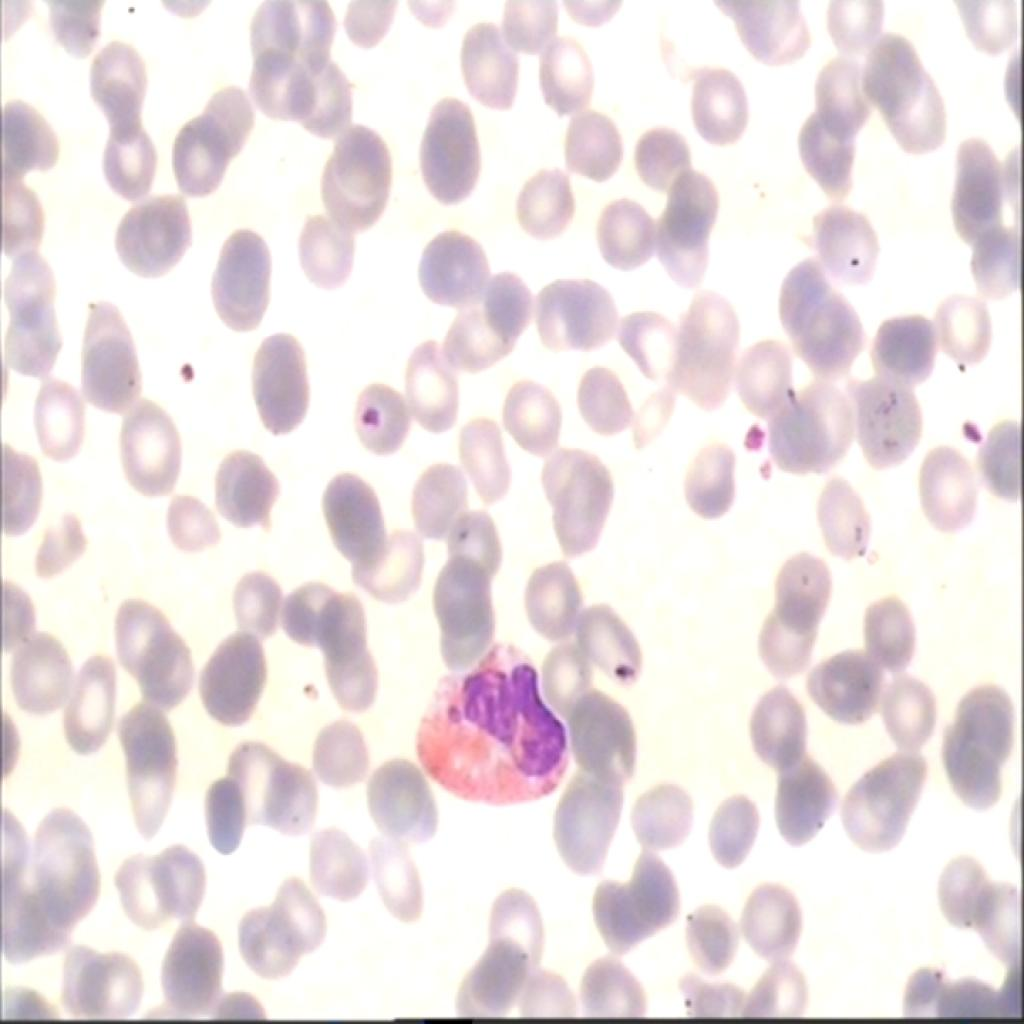Eosinofil: (412, 624, 566, 805)
Platelet: (353, 386, 384, 444), (168, 348, 199, 396), (956, 418, 987, 457), (744, 411, 766, 453)
